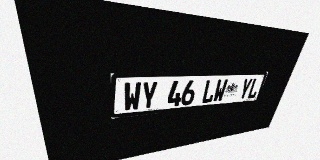4: (167, 80, 184, 107)
6: (180, 80, 197, 106)
L: (201, 79, 217, 104), (246, 78, 262, 99)
W: (123, 82, 141, 112), (212, 79, 228, 102)
Y: (140, 81, 158, 110), (237, 78, 253, 100)
